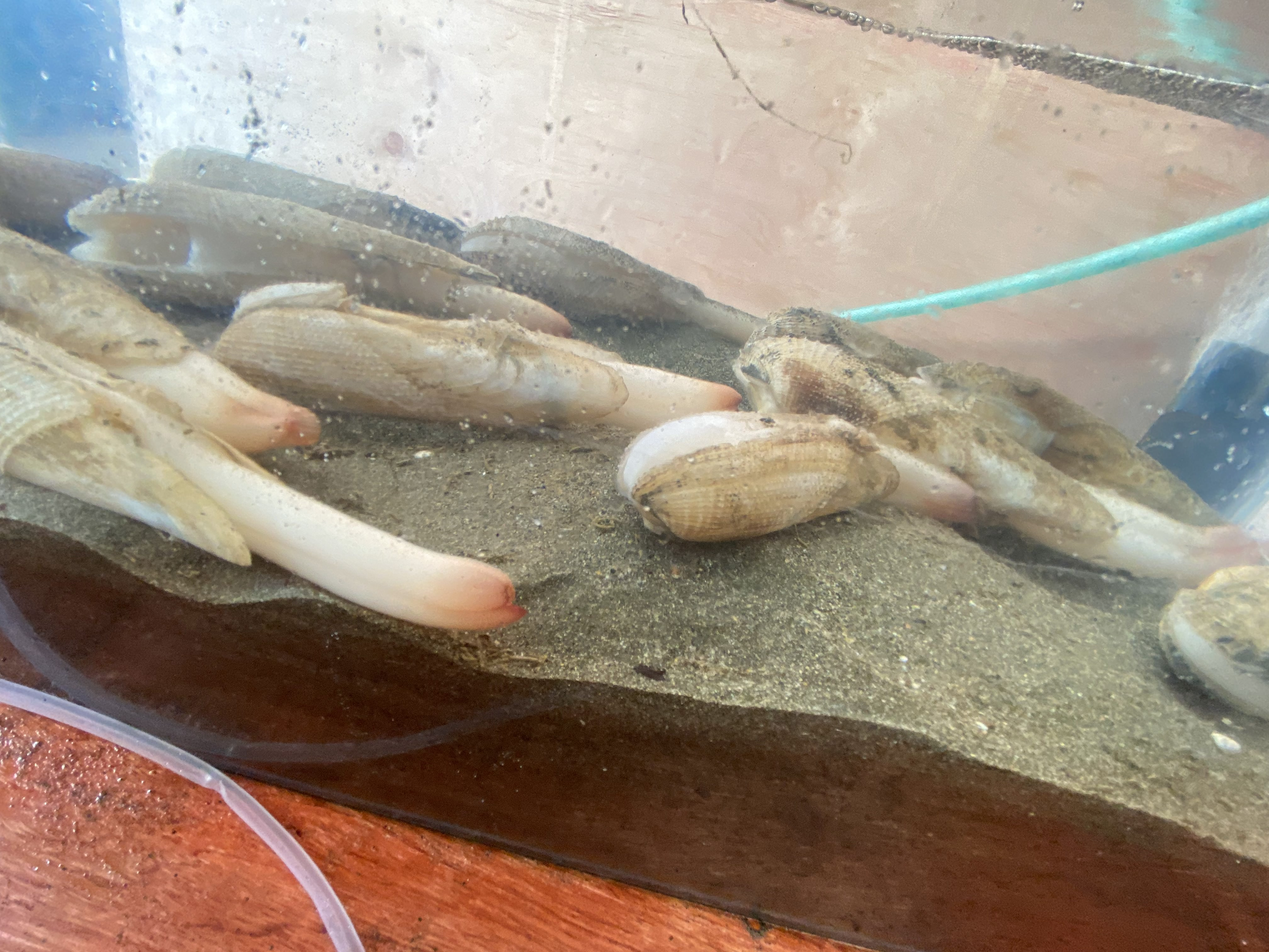Healthy: (0, 327, 522, 629), (734, 318, 1259, 584), (70, 172, 571, 336), (217, 295, 741, 432), (0, 228, 319, 452), (617, 412, 974, 541)
